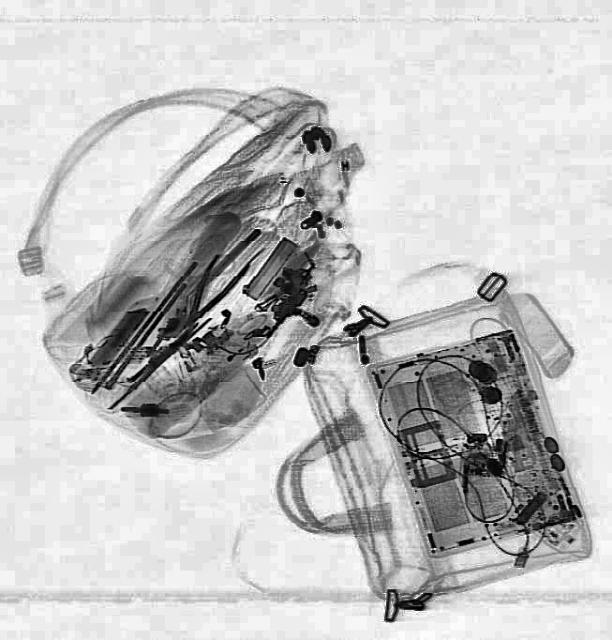Pliers: (162, 244, 252, 340)
